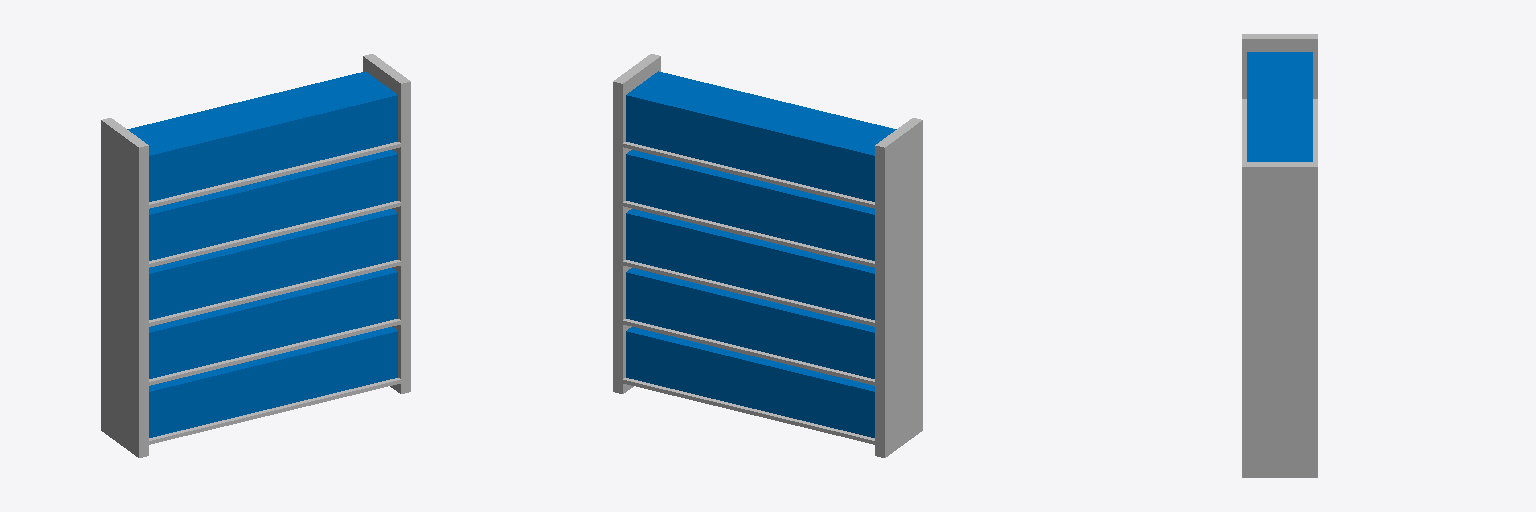
Rendered from Shelf.obj.
The picture shows the model from 3 angles: view 1: azimuth 30°, elevation 25°; view 2: azimuth 150°, elevation 25°; view 3: azimuth 270°, elevation 25°; orthographic projection.
Visible parts, largest first — view 1: Plane.137_Plane.063; view 2: Plane.137_Plane.063; view 3: Plane.137_Plane.063.
Boxes of the visible parts, box(x1,y1,x2,y2) form: Plane.137_Plane.063: box(101, 54, 410, 457); Plane.137_Plane.063: box(613, 54, 922, 457); Plane.137_Plane.063: box(1242, 34, 1317, 477).
Bounding box in the file's own units: 2.08 × 2.27 × 0.504.